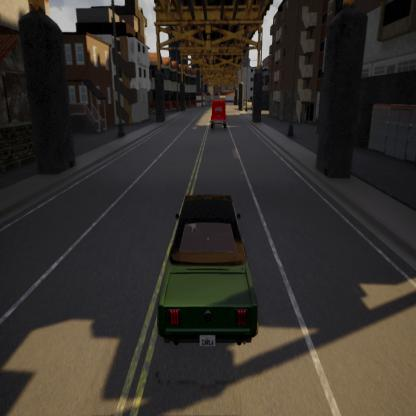Cars: (153, 188, 264, 361), (205, 94, 231, 135)
